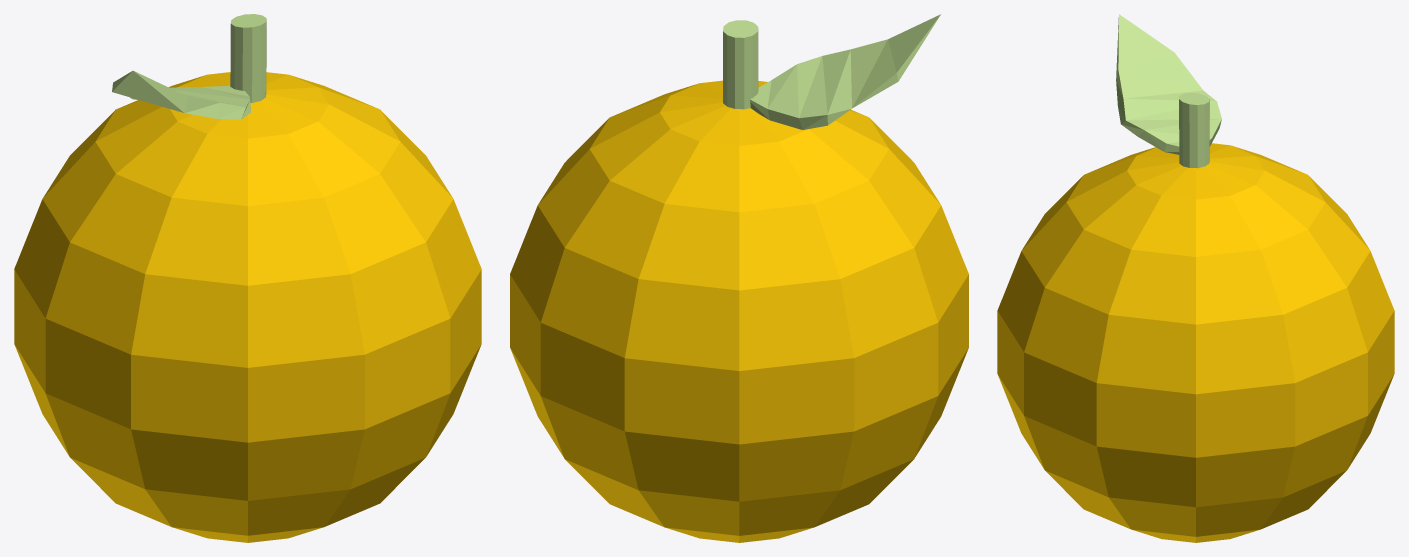
File: orange.fbx
The picture shows the model from 3 angles, left to right: view 1: azimuth 30°, elevation 25°; view 2: azimuth 150°, elevation 25°; view 3: azimuth 270°, elevation 25°; orthographic projection. The views are drawn at different scales.
Parts seen in each view (by area): view 1: Orange (×2); view 2: Orange (×2); view 3: Orange (×2).
Part boxes in pixels (x1,y1,x2,y2): Orange (×2): [14, 14, 481, 542]; Orange (×2): [510, 14, 968, 542]; Orange (×2): [997, 14, 1394, 542].
Size of the model in its own units: 13.79 by 17.03 by 13.79.
